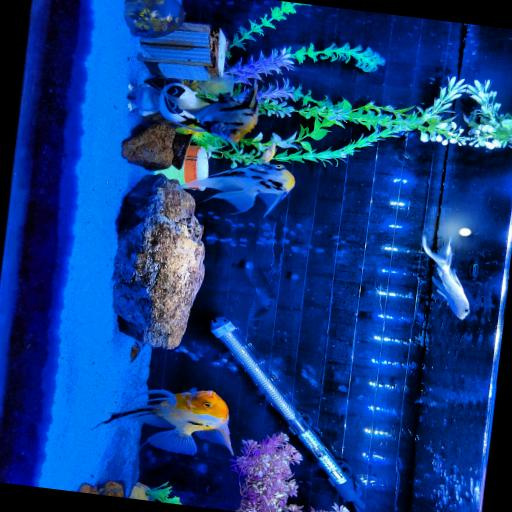Fish: (103, 389, 233, 454), (180, 144, 293, 216), (150, 74, 257, 142), (422, 236, 469, 319)
